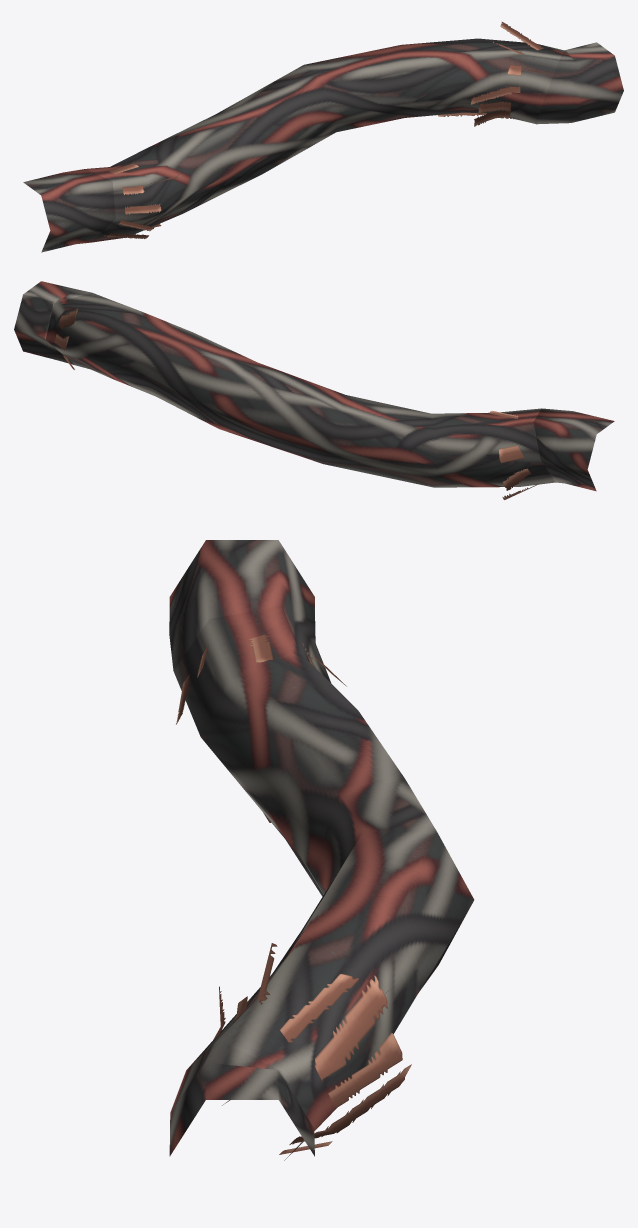
Rendered from robotentacle_busted_3unit_01_wirebundle.glb.
The picture shows the model from 3 angles, top to bottom: view 1: azimuth 30°, elevation 25°; view 2: azimuth 150°, elevation 25°; view 3: azimuth 270°, elevation 25°; orthographic projection. The views are drawn at different scales.
Parts seen in each view (by area): view 1: ghost_in_machine.robotentacle_busted_3unit_01_wirebundle-Mes (×3); view 2: ghost_in_machine.robotentacle_busted_3unit_01_wirebundle-Mes (×3); view 3: ghost_in_machine.robotentacle_busted_3unit_01_wirebundle-Mes (×3).
Part boxes in pixels (x1,y1,x2,y2): ghost_in_machine.robotentacle_busted_3unit_01_wirebundle-Mes (×3): (23,22,623,252); ghost_in_machine.robotentacle_busted_3unit_01_wirebundle-Mes (×3): (14,281,614,499); ghost_in_machine.robotentacle_busted_3unit_01_wirebundle-Mes (×3): (169,540,474,1160).
Bounding box in the file's own units: 3.1 × 0.6441 × 0.7275.
2 materials, 2 textured.
